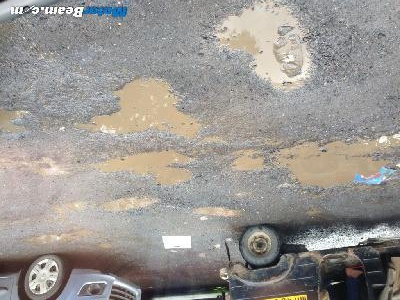pothole: (209, 0, 322, 99), (268, 129, 399, 196), (87, 73, 206, 145), (88, 150, 197, 190), (99, 195, 157, 217), (227, 149, 269, 177), (0, 104, 32, 137), (190, 203, 242, 220)
